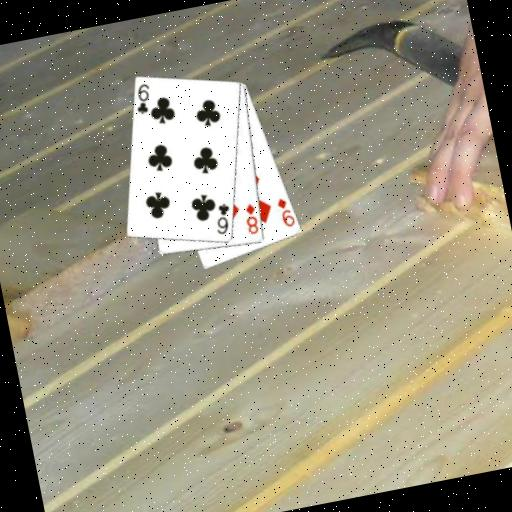6C: (209, 200, 236, 237), (129, 80, 156, 117)
8D: (240, 200, 261, 237)
9D: (273, 194, 298, 231)
